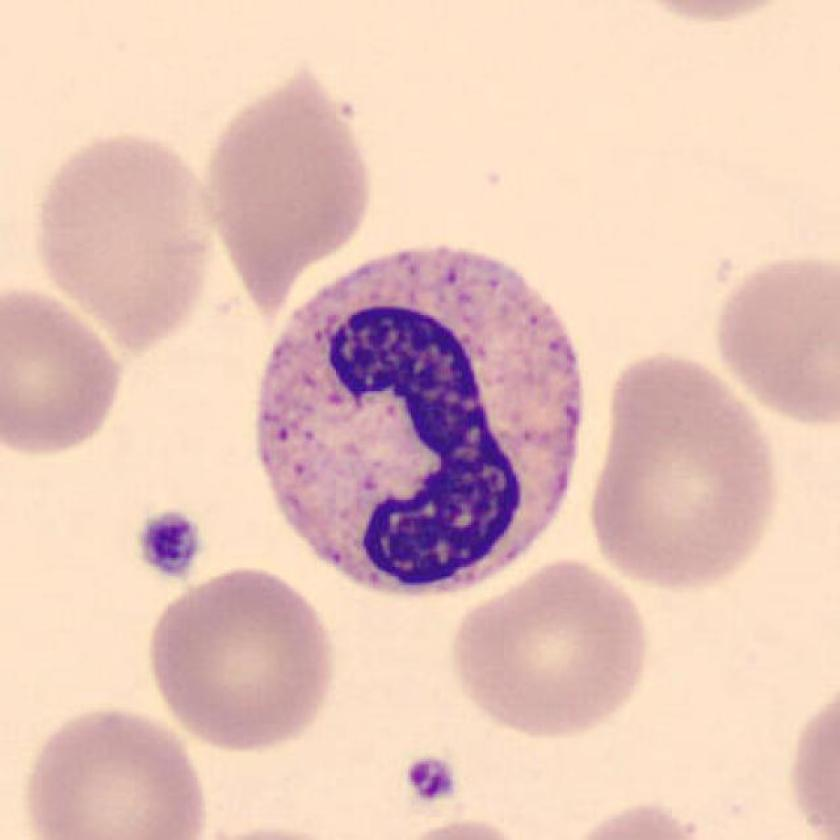neutrophil: (257, 249, 581, 594)
